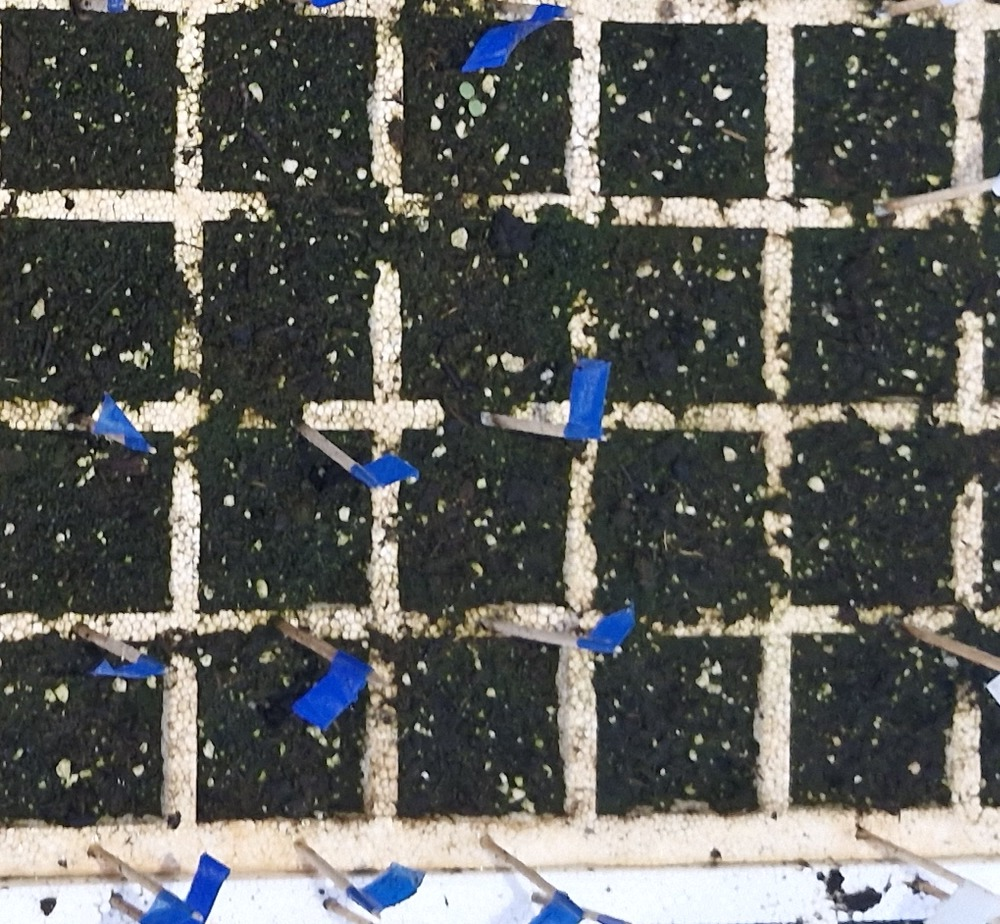Folha: (468, 98, 483, 117), (460, 82, 475, 100)
Germinacao: (459, 82, 484, 117)
